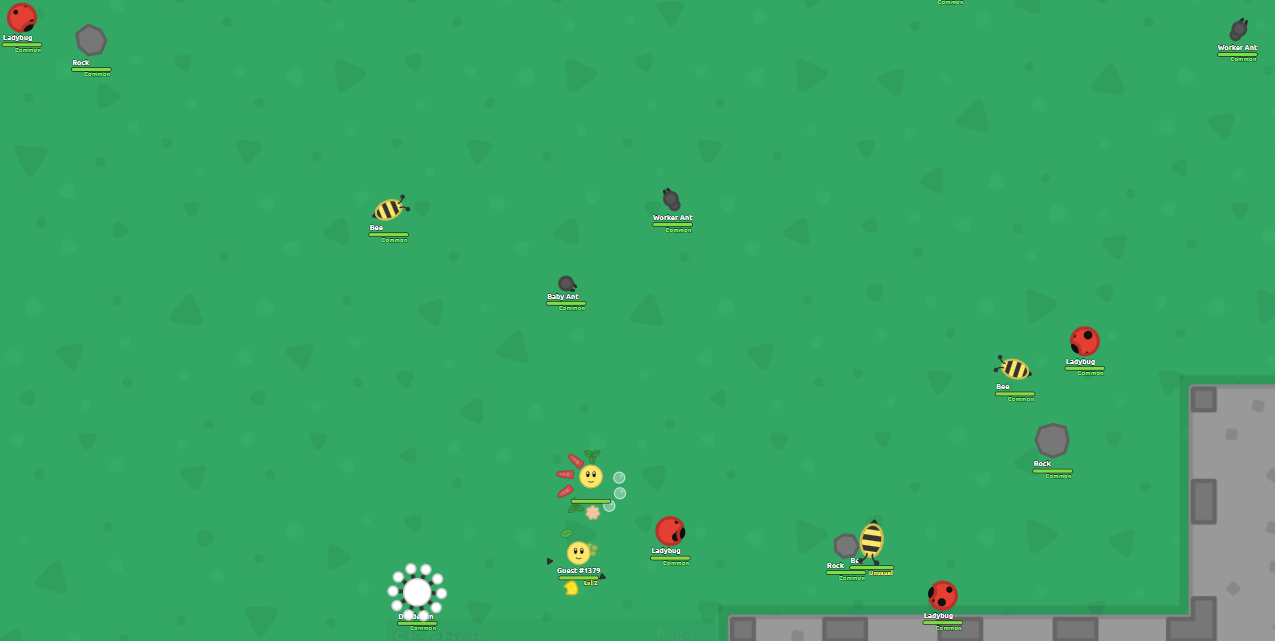Baby Ant: (556, 274, 579, 297)
Bee: (860, 519, 883, 562), (370, 196, 405, 223), (999, 357, 1034, 382)
Dandelion: (387, 562, 447, 623)
Ladybug: (1068, 325, 1102, 358), (926, 579, 959, 613), (6, 1, 37, 34), (655, 515, 686, 548)
Rock: (1034, 421, 1070, 459), (74, 24, 108, 57), (832, 533, 857, 559)
Worker Ant: (661, 186, 682, 213), (1228, 17, 1249, 42)
